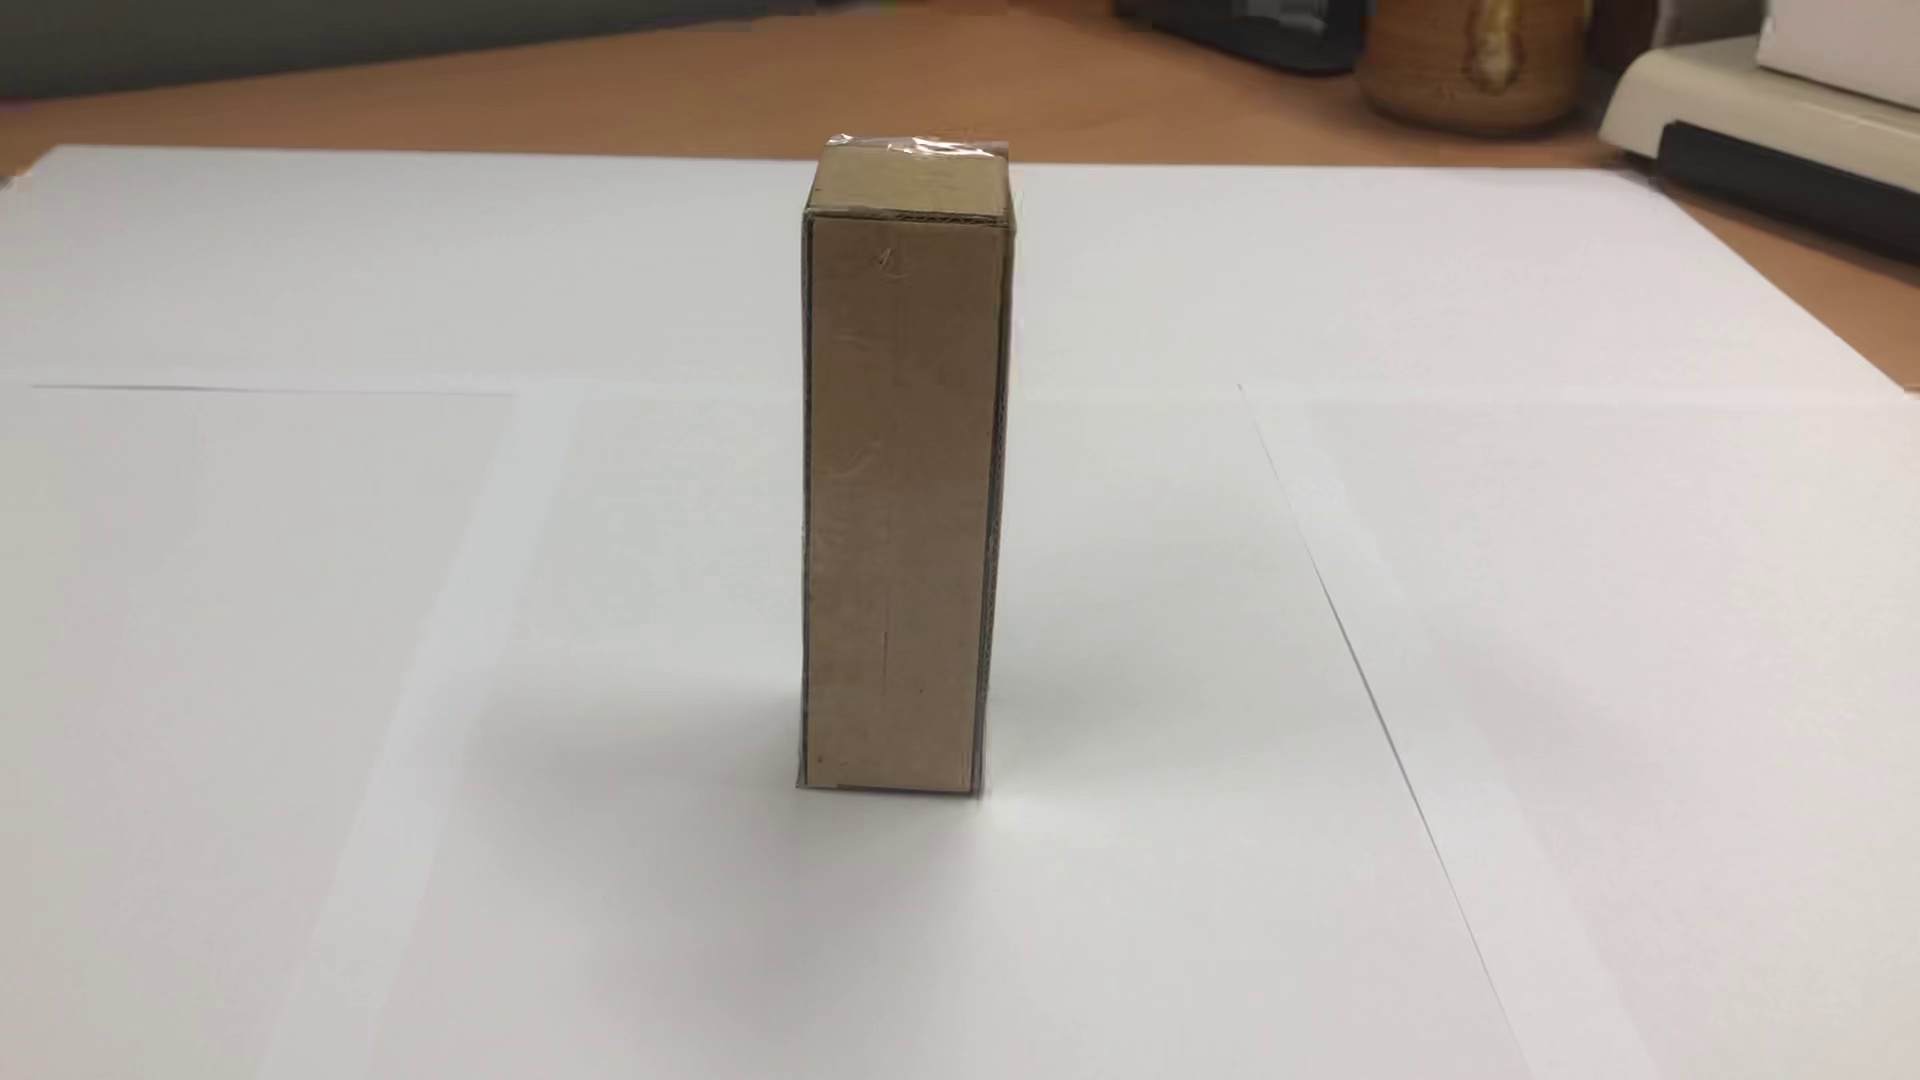box: (746, 94, 1030, 835)
